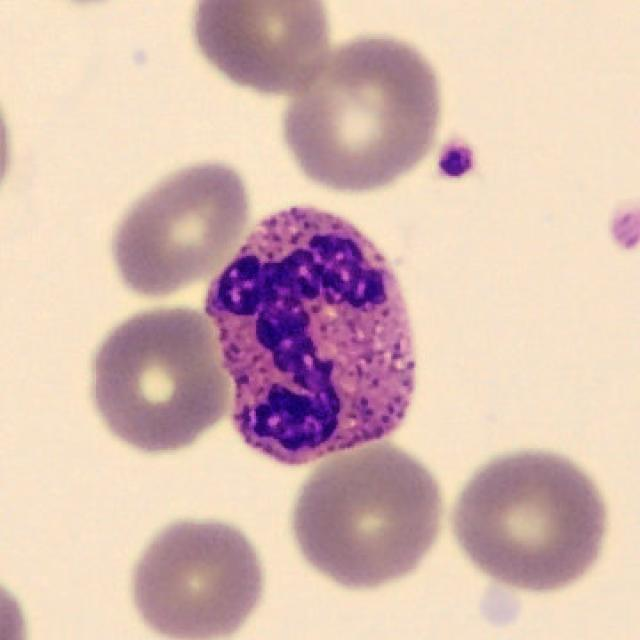Neutrofilo segmentado: (203, 206, 418, 466)
